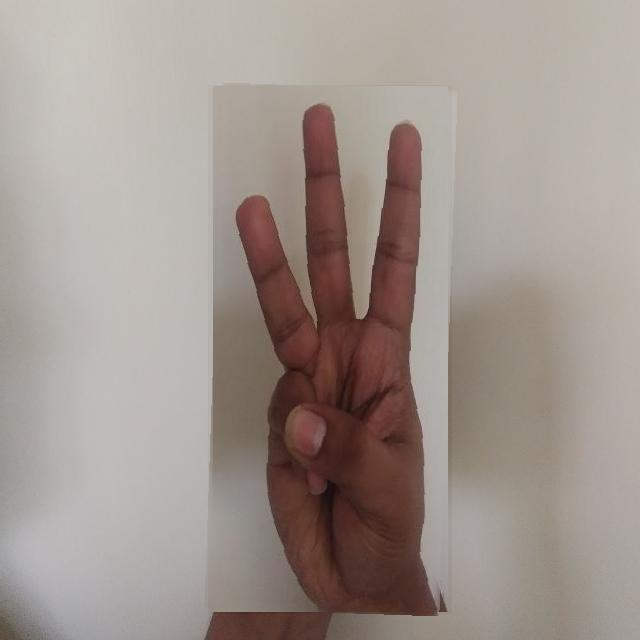Please: (208, 85, 452, 614)
